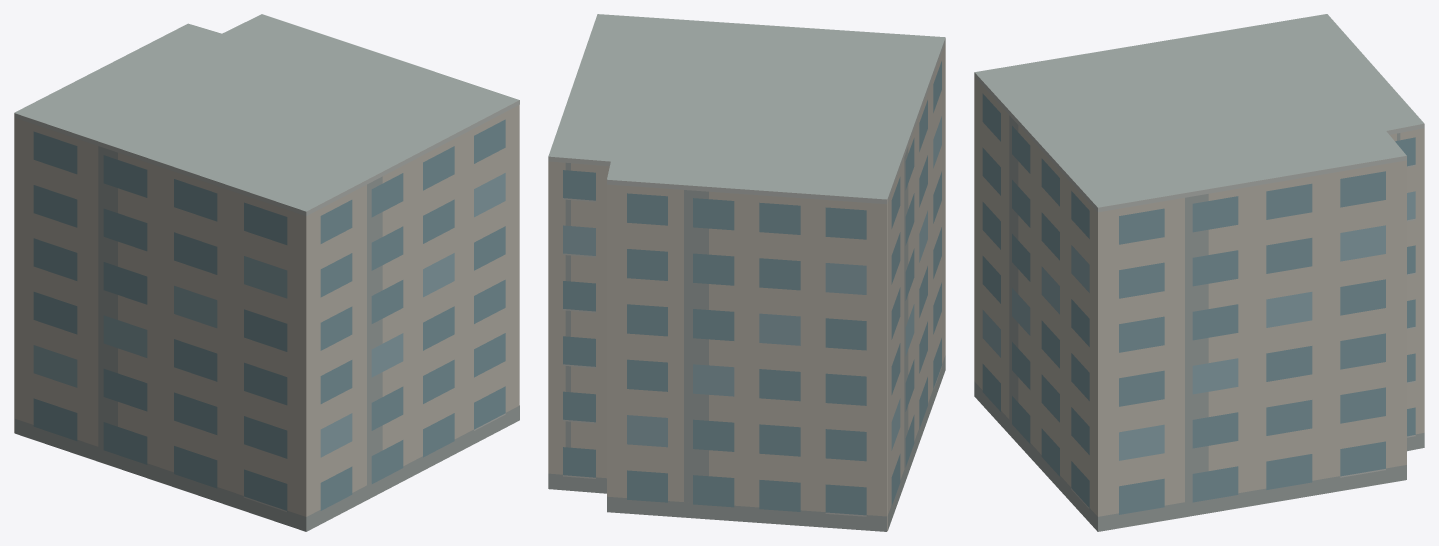
The model's file is survey-upis-32865940.glb.
The picture shows the model from 3 angles, left to right: view 1: azimuth 30°, elevation 25°; view 2: azimuth 150°, elevation 25°; view 3: azimuth 270°, elevation 25°; orthographic projection. The views are drawn at different scales.
Visible parts, largest first — view 1: survey-upis-32865940.tmp; view 2: survey-upis-32865940.tmp; view 3: survey-upis-32865940.tmp.
Boxes of the visible parts, bbox=[...] form: survey-upis-32865940.tmp: bbox=[14, 14, 519, 531]; survey-upis-32865940.tmp: bbox=[548, 14, 945, 531]; survey-upis-32865940.tmp: bbox=[974, 14, 1424, 531].
Bounding box in the file's own units: 21.8 × 17 × 21.4.
